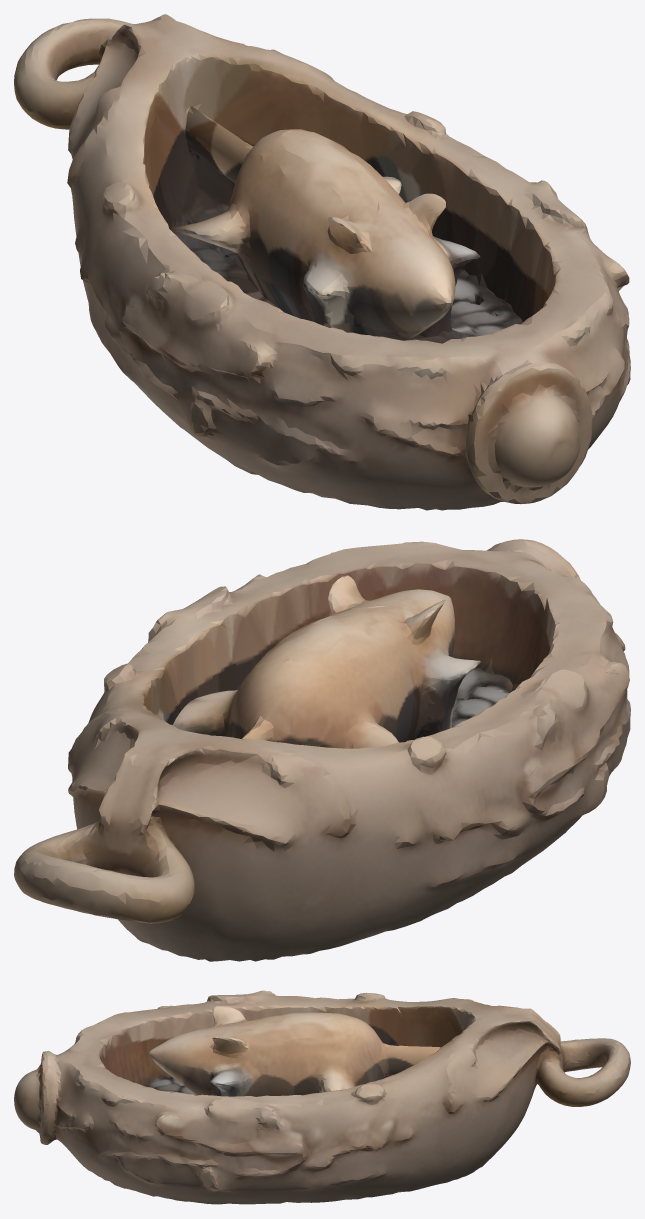
3 views of the same model, one above another, from view 1: azimuth 30°, elevation 25°; view 2: azimuth 150°, elevation 25°; view 3: azimuth 270°, elevation 25° (orthographic). The views are drawn at different scales.
Visible parts, largest first — view 1: 056; view 2: 056; view 3: 056.
Part boxes in pixels (box(x1,y1,x2,y2)): 056: box(14, 14, 630, 510); 056: box(14, 539, 630, 961); 056: box(14, 990, 630, 1204).
Size of the model in its own units: 0.93 by 0.4743 by 1.9.
Materials: 1 (1 with a texture image).
